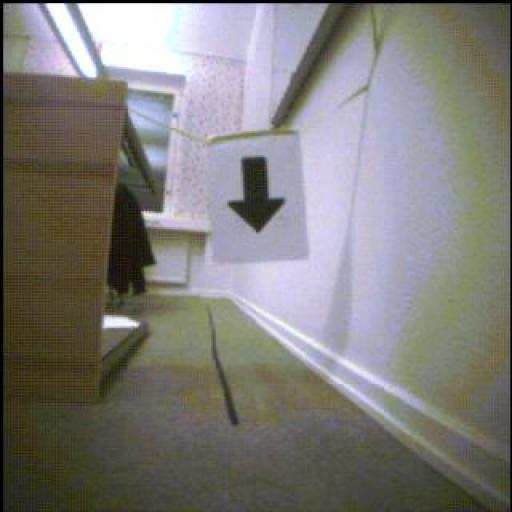arrow: (230, 158, 286, 233)
